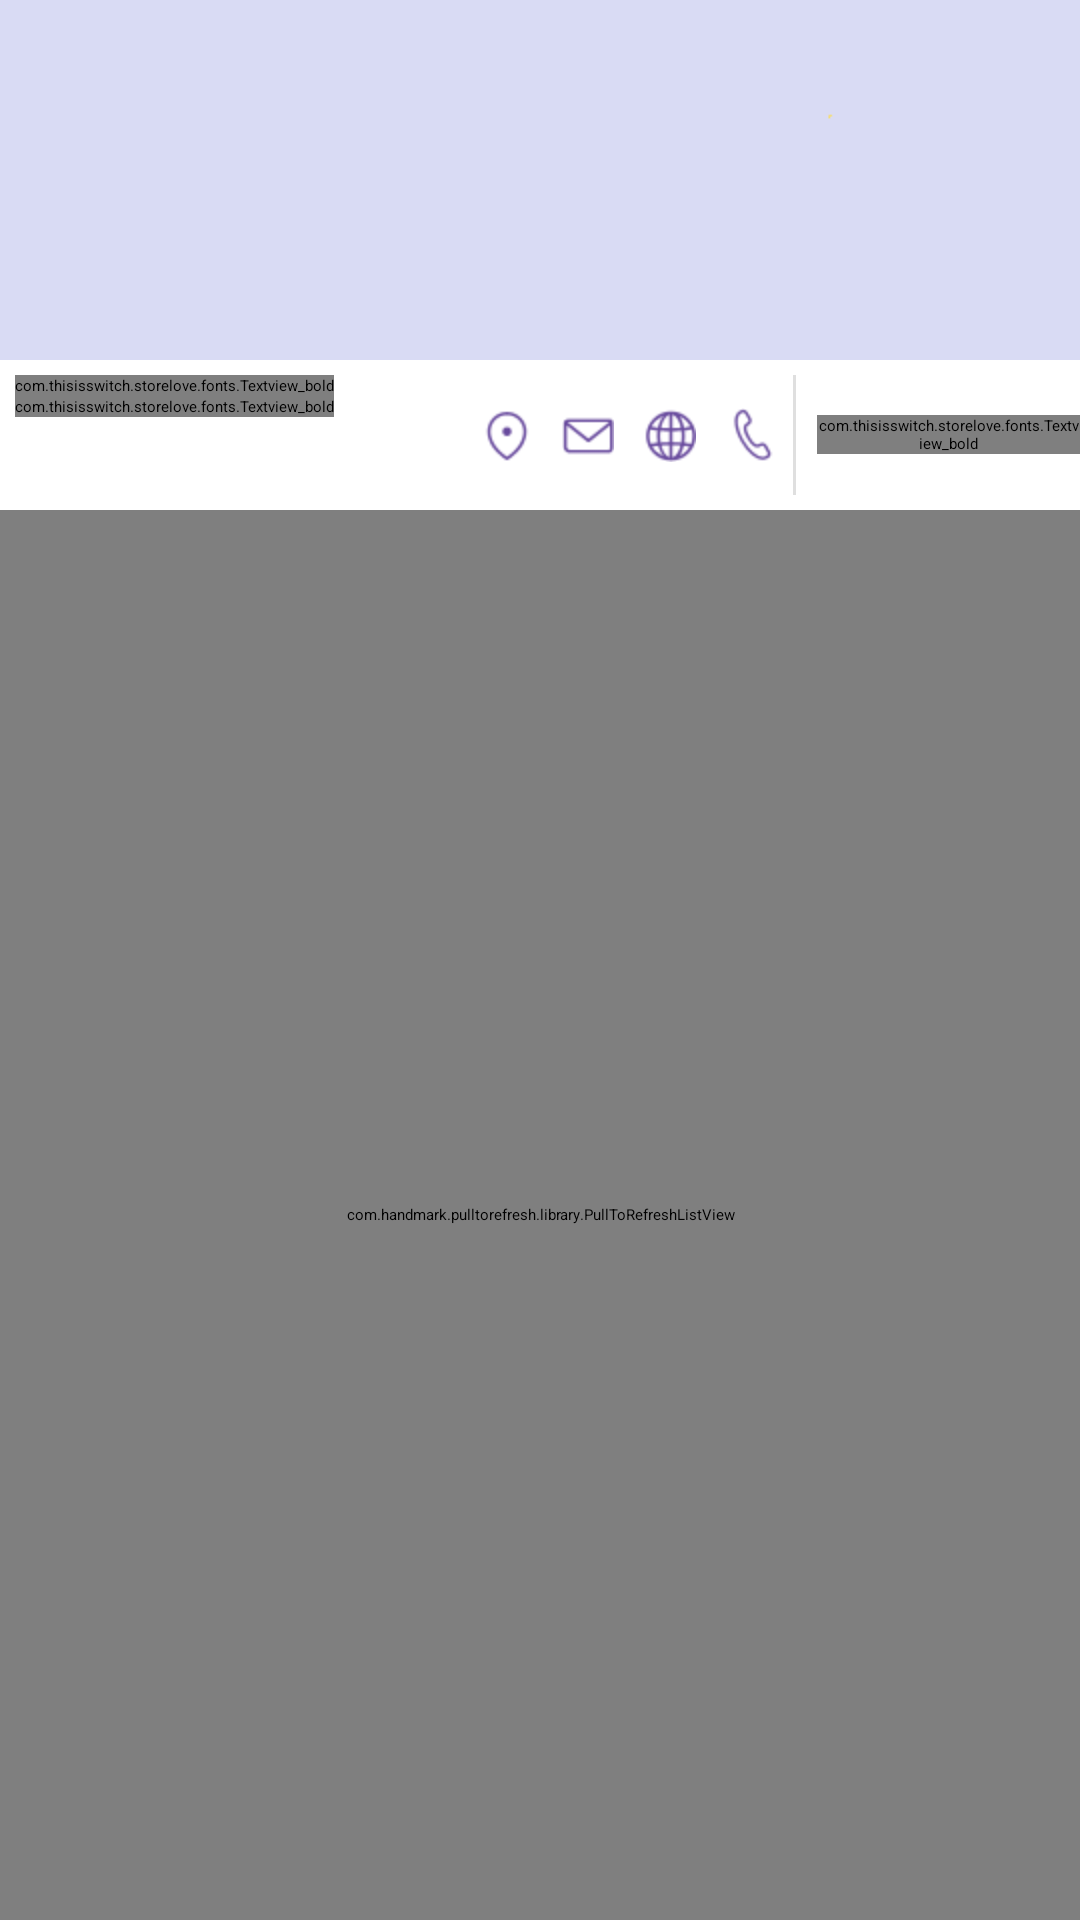

Named icons in this screenshot (1080w x 1920h) and their centers, (x,y):
call: (752,435)
content email: (588,436)
store locate: (507,436)
store webadd: (670,436)
